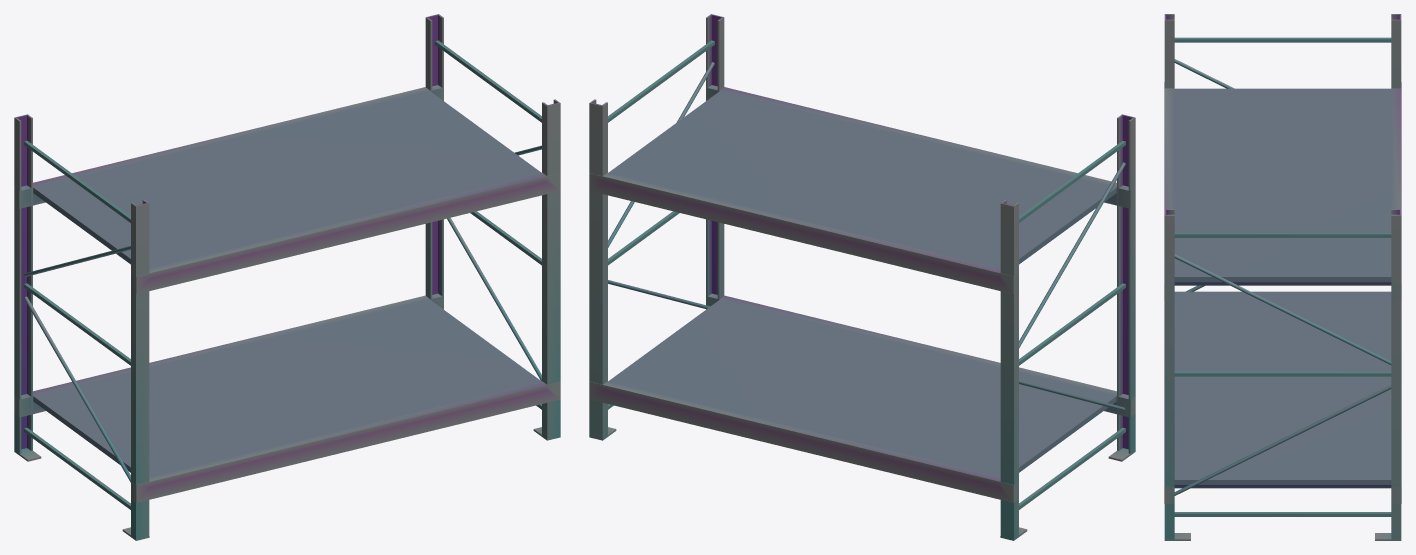
File: simready-rack_large_empty_a01.glb
3 renders of one model, left to right at view 1: azimuth 30°, elevation 25°; view 2: azimuth 150°, elevation 25°; view 3: azimuth 270°, elevation 25°, orthographic. The views are drawn at different scales.
Parts seen in each view (by area): view 1: deck.001, deck, upright.003, upright.001, upright.002, upright, diagonal.002, diagonal, rail.003, rail.004, rail.005, rail.002; view 2: deck.001, deck, upright.002, upright, upright.003, upright.001, diagonal.003, rail.003, rail.004, rail.005, rail.002; view 3: deck.001, deck, upright, upright.001, rail.001, rail.005, rail, rail.002, diagonal.001, diagonal, upright.002, upright.003.
Part boxes in pixels (x1=…): deck.001: x1=14, y1=85, x2=560, y2=294; deck: x1=14, y1=293, x2=560, y2=502; upright.003: x1=131, y1=199, x2=149, y2=540; upright.001: x1=542, y1=99, x2=560, y2=440; upright.002: x1=14, y1=114, x2=32, y2=453; upright: x1=425, y1=14, x2=443, y2=309; diagonal.002: x1=24, y1=296, x2=130, y2=482; diagonal: x1=447, y1=217, x2=541, y2=380; rail.003: x1=24, y1=427, x2=130, y2=509; rail.004: x1=24, y1=283, x2=130, y2=365; rail.005: x1=24, y1=140, x2=130, y2=222; rail.002: x1=435, y1=40, x2=541, y2=122; deck.001: x1=589, y1=85, x2=1135, y2=294; deck: x1=589, y1=293, x2=1135, y2=502; upright.002: x1=1000, y1=199, x2=1018, y2=540; upright: x1=589, y1=99, x2=607, y2=440; upright.003: x1=1117, y1=114, x2=1135, y2=453; upright.001: x1=706, y1=14, x2=724, y2=305; diagonal.003: x1=1019, y1=162, x2=1125, y2=348; rail.003: x1=1019, y1=427, x2=1125, y2=509; rail.004: x1=1019, y1=283, x2=1125, y2=365; rail.005: x1=1019, y1=140, x2=1125, y2=222; rail.002: x1=608, y1=40, x2=714, y2=122; deck.001: x1=1164, y1=82, x2=1401, y2=300; deck: x1=1164, y1=291, x2=1401, y2=503; upright: x1=1391, y1=209, x2=1401, y2=539; upright.001: x1=1164, y1=209, x2=1174, y2=539; rail.001: x1=1174, y1=371, x2=1391, y2=376; rail.005: x1=1174, y1=37, x2=1391, y2=42; rail: x1=1174, y1=512, x2=1391, y2=516; rail.002: x1=1174, y1=233, x2=1391, y2=237; diagonal.001: x1=1174, y1=254, x2=1391, y2=364; diagonal: x1=1174, y1=385, x2=1391, y2=495; upright.002: x1=1391, y1=14, x2=1401, y2=88; upright.003: x1=1164, y1=14, x2=1174, y2=88.
Bounding box in the file's own units: 3.99 × 3.01 × 1.99.
